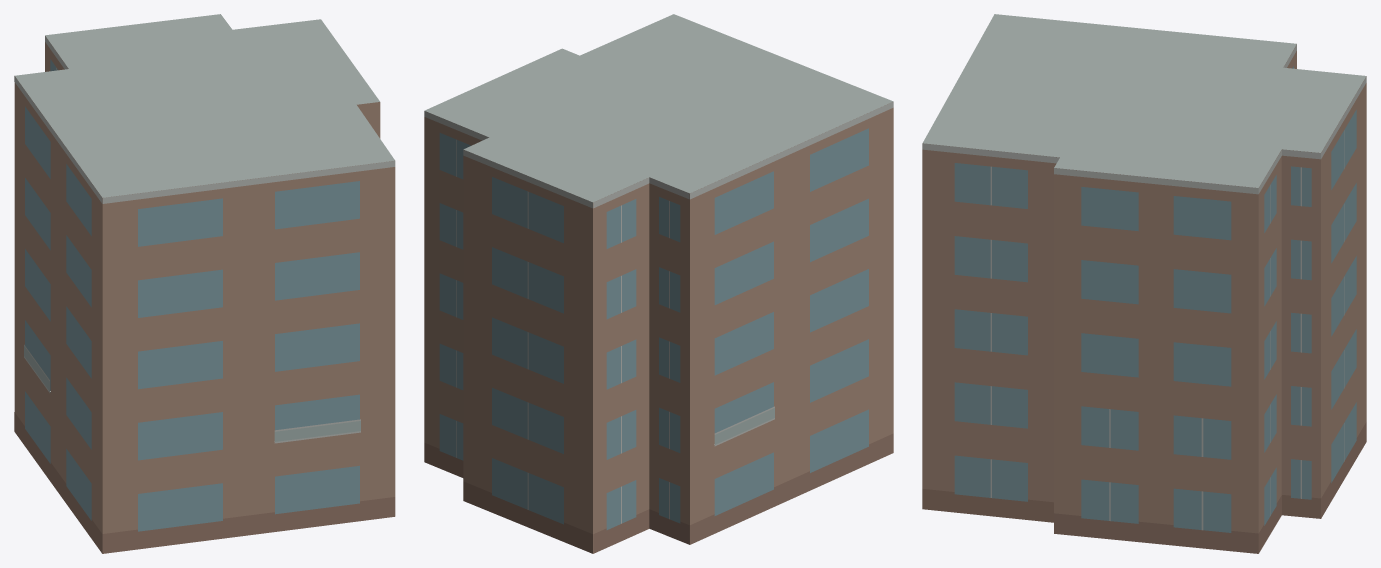
Rendered from survey-upis-32945591.glb.
3 views of the same model, side by side, from view 1: azimuth 30°, elevation 25°; view 2: azimuth 150°, elevation 25°; view 3: azimuth 270°, elevation 25° (orthographic). The views are drawn at different scales.
Parts seen in each view (by area): view 1: survey-upis-32945591.tmp; view 2: survey-upis-32945591.tmp; view 3: survey-upis-32945591.tmp.
Boxes of the visible parts, x1,y1,x2,y2 form: survey-upis-32945591.tmp: (14, 14, 395, 553); survey-upis-32945591.tmp: (424, 14, 893, 553); survey-upis-32945591.tmp: (922, 14, 1366, 553).
Size of the model in its own units: 14.39 by 14.1 by 15.52.
